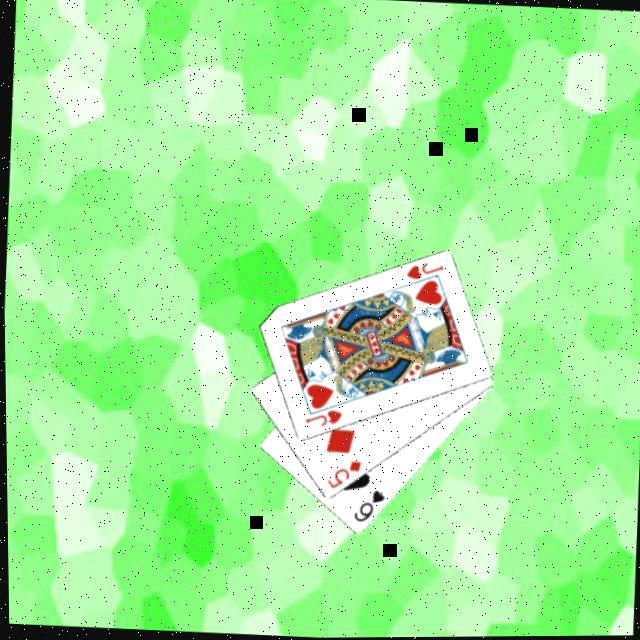5D: (321, 457, 362, 492)
6S: (348, 486, 386, 526)
JH: (300, 406, 343, 430), (402, 259, 444, 283)
